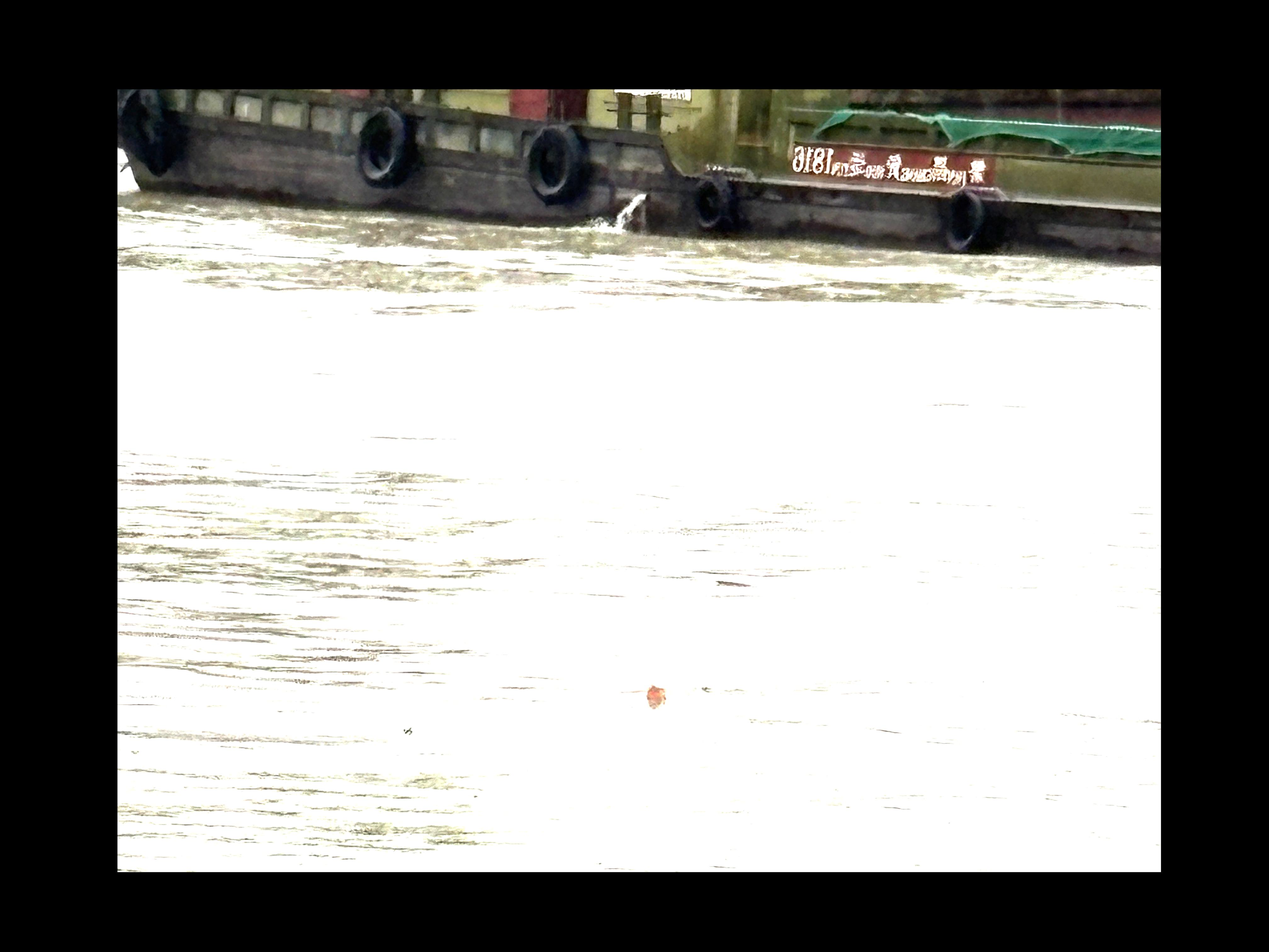Natural wastes: (713, 574, 751, 590)
Plastic wastes: (641, 679, 672, 705)
